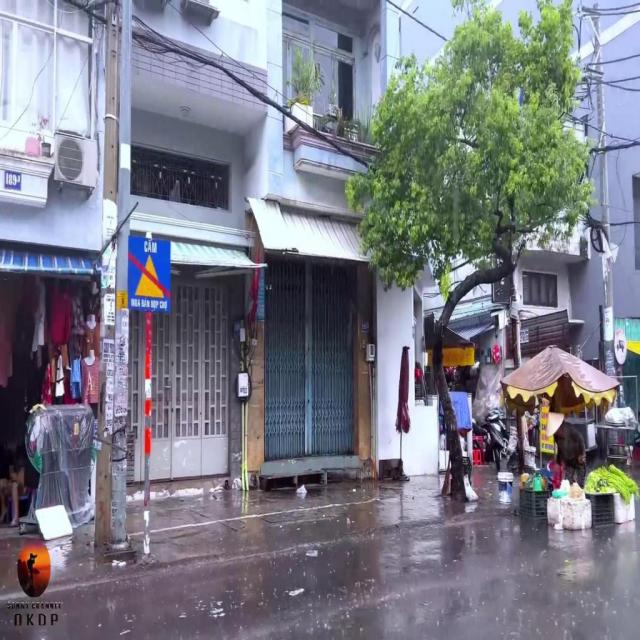cam_o_to_tai: (614, 329, 628, 365)
khac: (128, 236, 170, 312)
